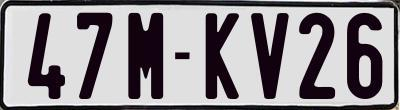2: (298, 11, 335, 99)
4: (25, 10, 64, 101)
6: (347, 10, 384, 99)
7: (77, 11, 113, 101)
K: (206, 11, 245, 103)
M: (127, 10, 164, 101)
V: (250, 10, 291, 102)
